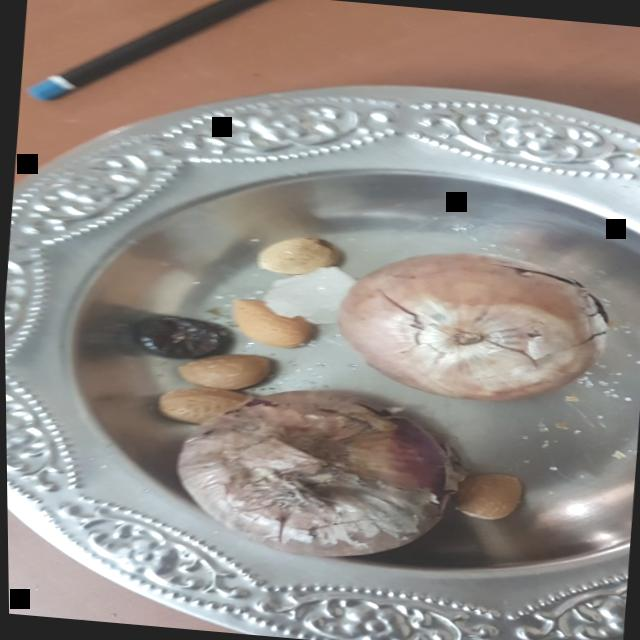onion: (166, 376, 453, 566), (323, 237, 621, 400)
